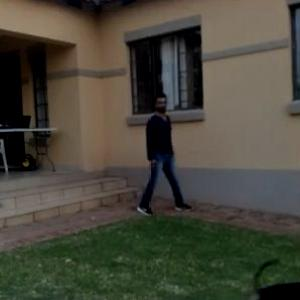follow: (141, 87, 181, 221)
